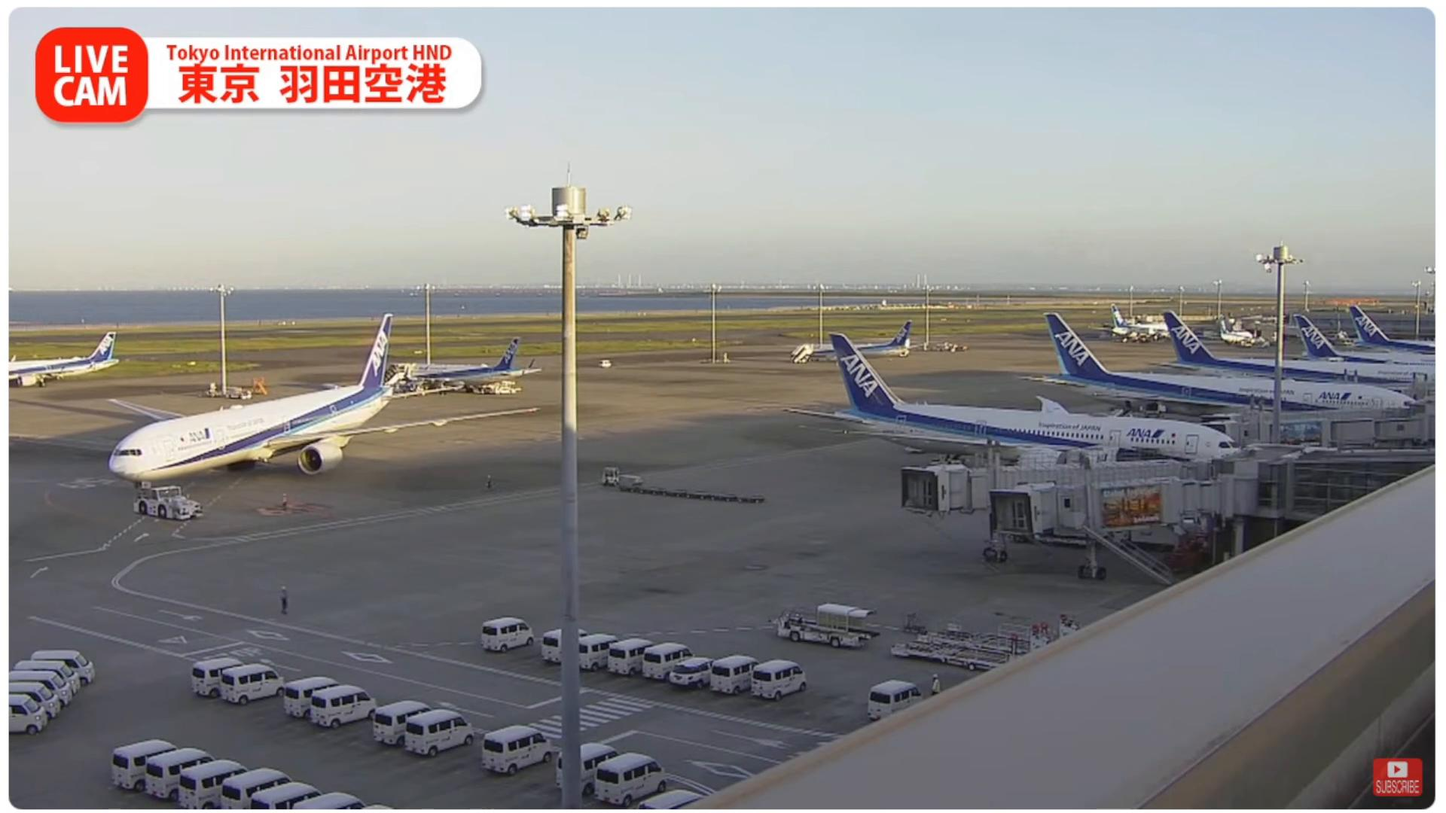Aerobridge: (992, 474, 1253, 544), (897, 462, 1214, 513)
Airplane: (105, 312, 540, 480)
Dolly: (617, 475, 772, 504)
JCPL: (918, 617, 1080, 654), (891, 641, 1014, 668)
Skyloader: (769, 599, 883, 648)
Tractor: (134, 485, 204, 521), (599, 466, 621, 485)
Window: (1253, 443, 1435, 520)
